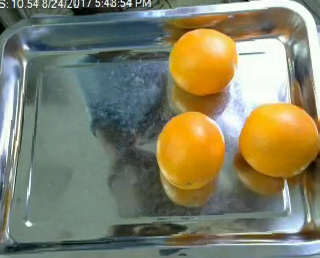Orange: (238, 103, 319, 178), (156, 111, 225, 189), (169, 27, 238, 95)
